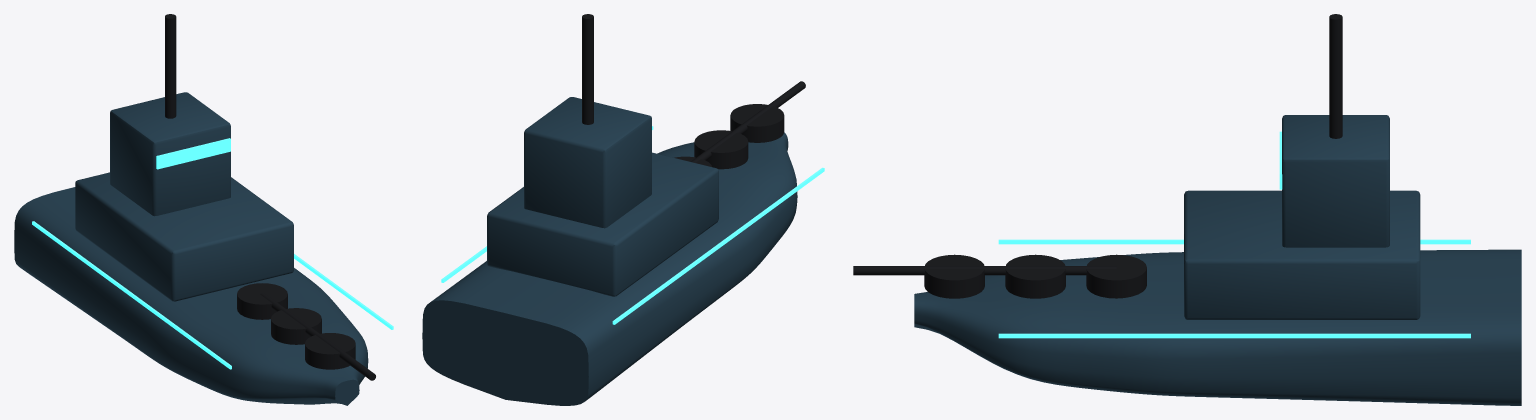
The model's file is leviathan.glb.
The picture shows the model from 3 angles, left to right: view 1: azimuth 30°, elevation 25°; view 2: azimuth 150°, elevation 25°; view 3: azimuth 270°, elevation 25°; orthographic projection. The views are drawn at different scales.
Parts seen in each view (by area): view 1: Body; view 2: Body; view 3: Body.
Part boxes in pixels (box(x1,y1,x2,y2)): Body: box(14, 14, 393, 405); Body: box(422, 14, 824, 405); Body: box(853, 14, 1521, 405).
Size of the model in its own units: 6.76 by 11.89 by 19.8.
